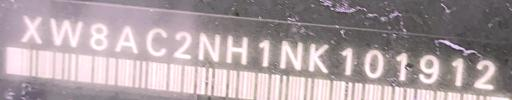letter: (48, 16, 84, 49), (470, 57, 496, 90), (114, 23, 140, 54), (362, 46, 386, 79), (20, 11, 44, 44), (306, 41, 330, 73), (196, 31, 220, 63), (224, 33, 248, 65), (278, 38, 302, 70), (417, 52, 441, 83), (144, 26, 168, 56), (448, 55, 468, 86), (172, 29, 192, 59), (88, 22, 110, 49), (392, 49, 410, 81), (339, 44, 355, 75), (256, 38, 272, 66)
